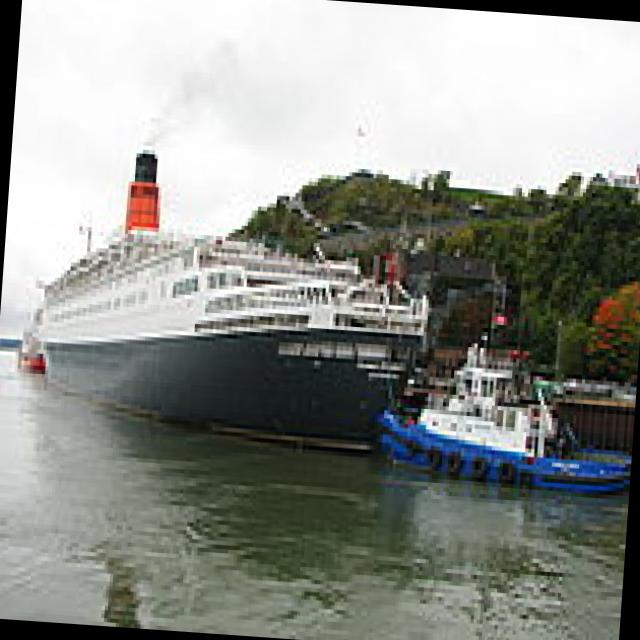boat: (23, 148, 420, 458), (386, 370, 636, 520)
